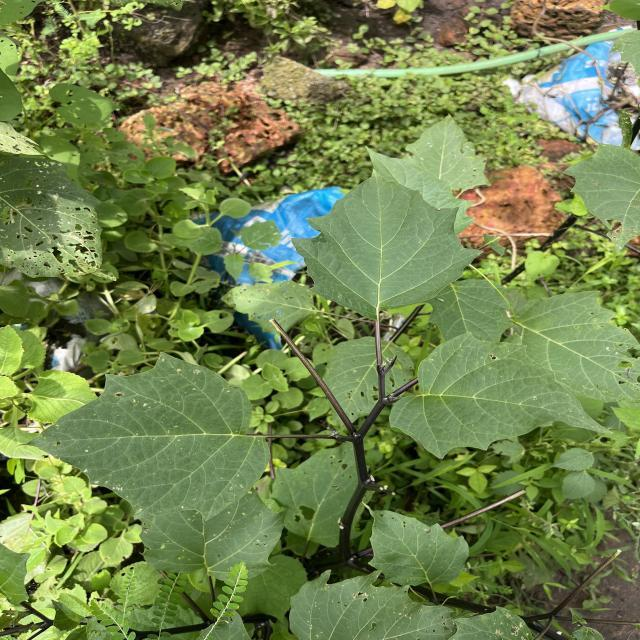Datura metal linn: (15, 348, 274, 524), (289, 165, 488, 323), (386, 330, 615, 460), (360, 498, 472, 590)
